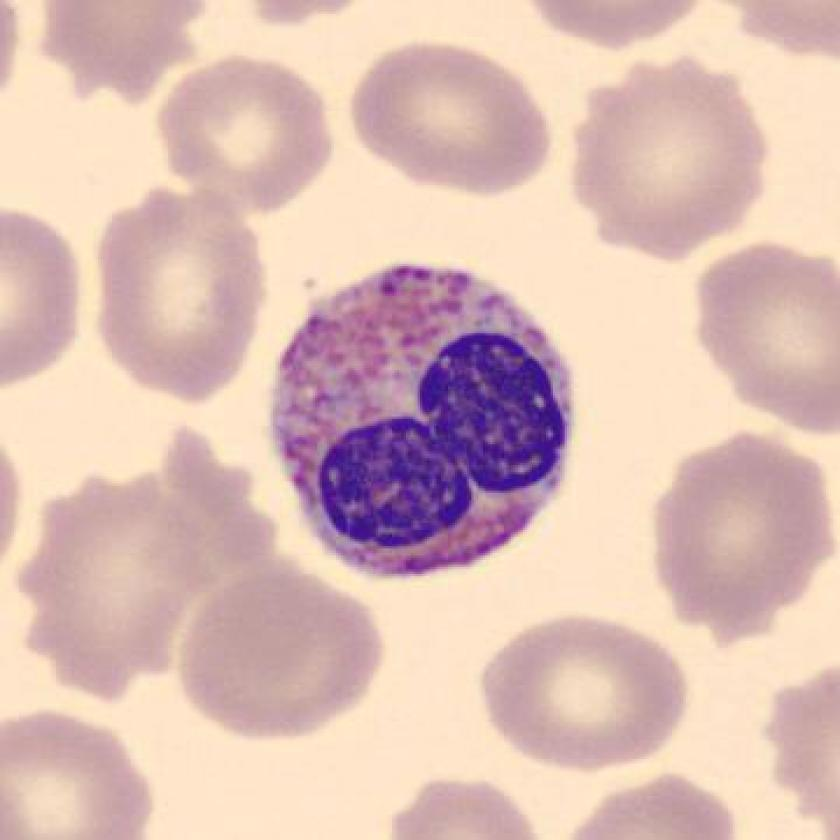eosinophil: (256, 253, 592, 598)
